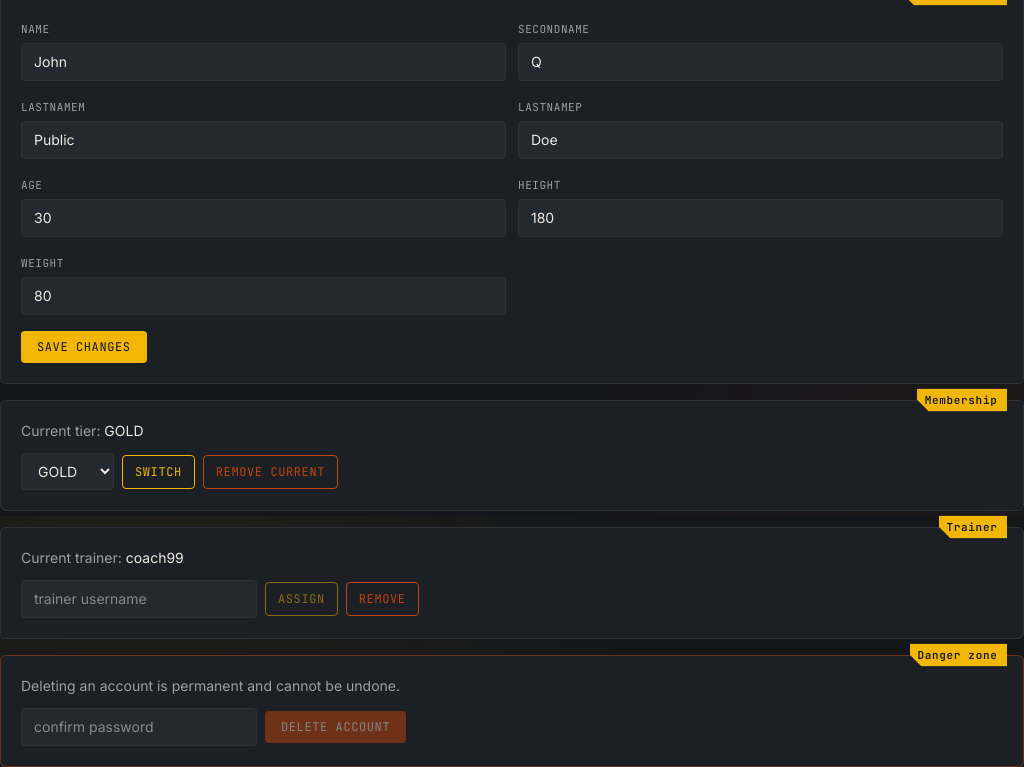
Test: ClientDetailPanel › deleting the account is disabled until a confirmation password is entered
(page scrolled)
Check: the text "GOLD" is shown, box [104,422,144,439]
Check: the button "Delete account" is disabled, box [265,711,406,743]
Type "s3cret" into the password field with placeholder "confirm password" at (139,727), box [21,708,257,746]
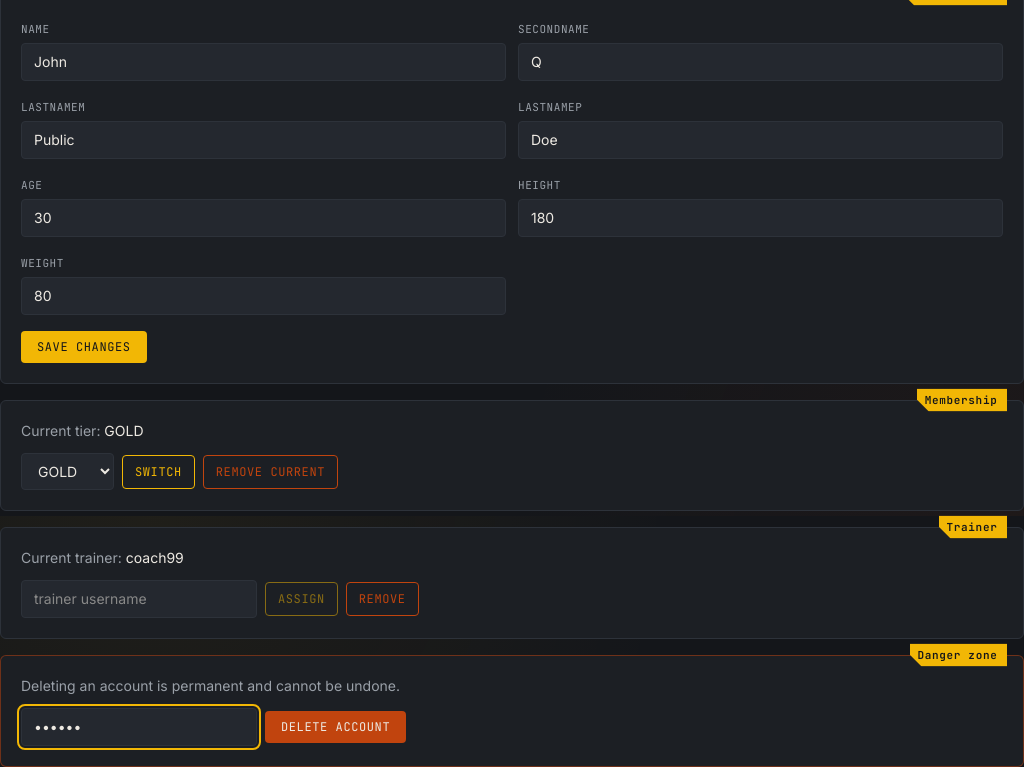
Check: the button "Delete account" is enabled, box [265,711,406,743]
